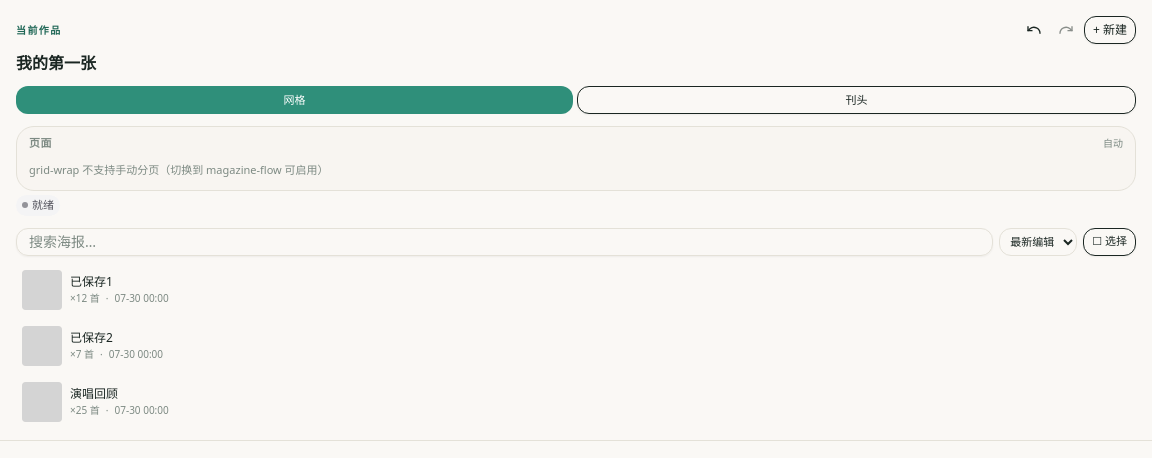
Test: PostersSidebar - 搜索过滤 › 输入子串后只显示匹配的海报
This screenshot has width=1152, height=458.
Type "演唱" into the field with test id "poster-search-input" at (505, 242), box x1=16 y1=228 x2=993 y2=256
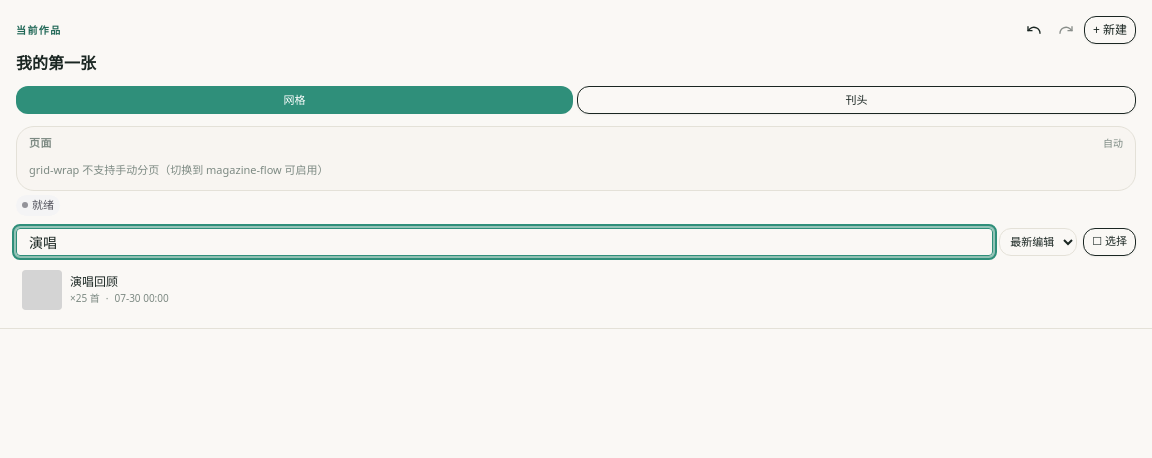
Expected: the text "演唱回顾" is shown, x1=70 y1=273 x2=118 y2=290
Now the button "已保存1" is gone
Now the button "已保存2" is gone
